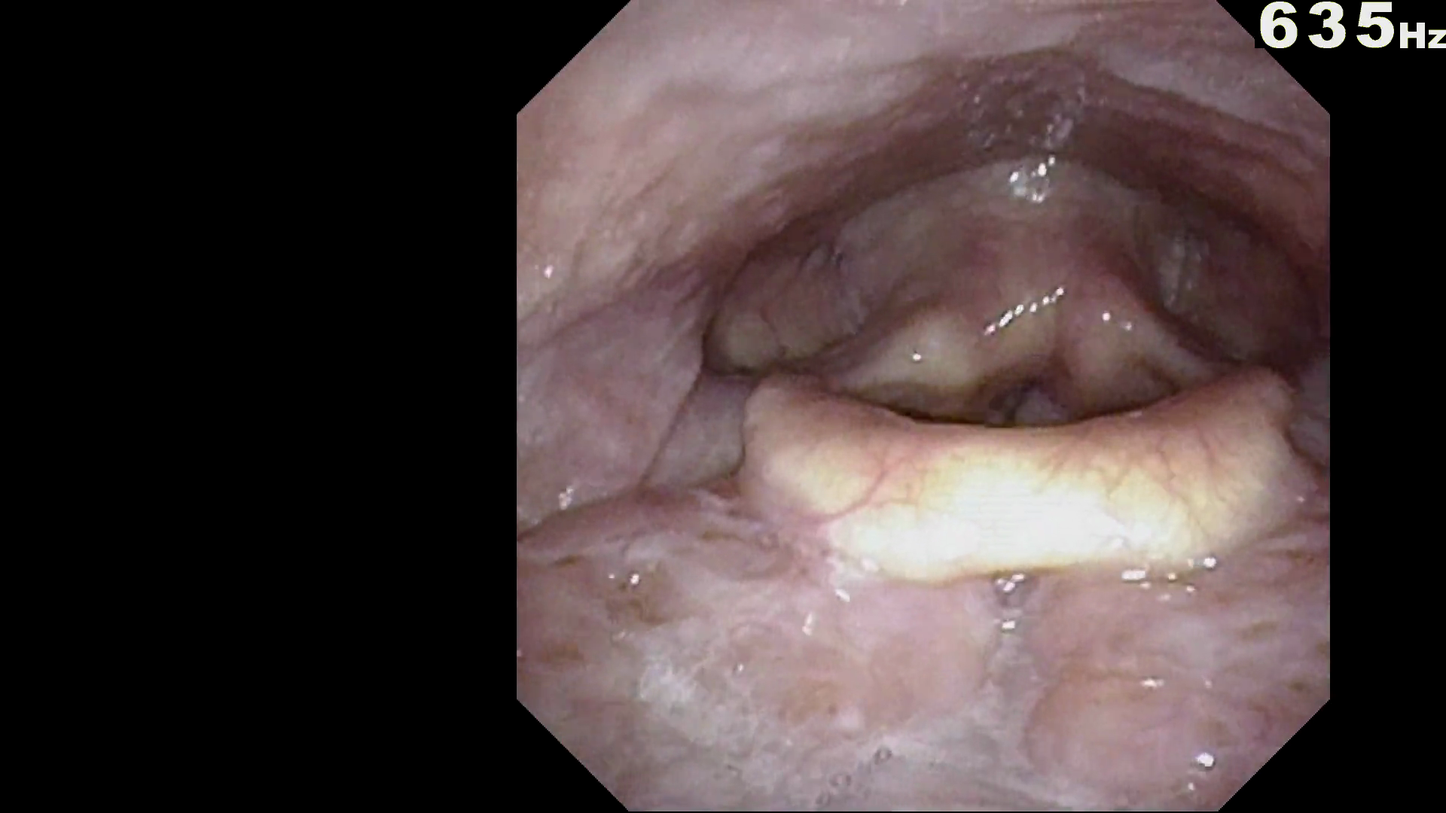epiglottis: (765, 380, 1270, 580)
trachea: (946, 322, 1082, 455)
